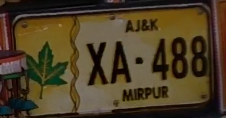XA488: (5, 4, 220, 114)
